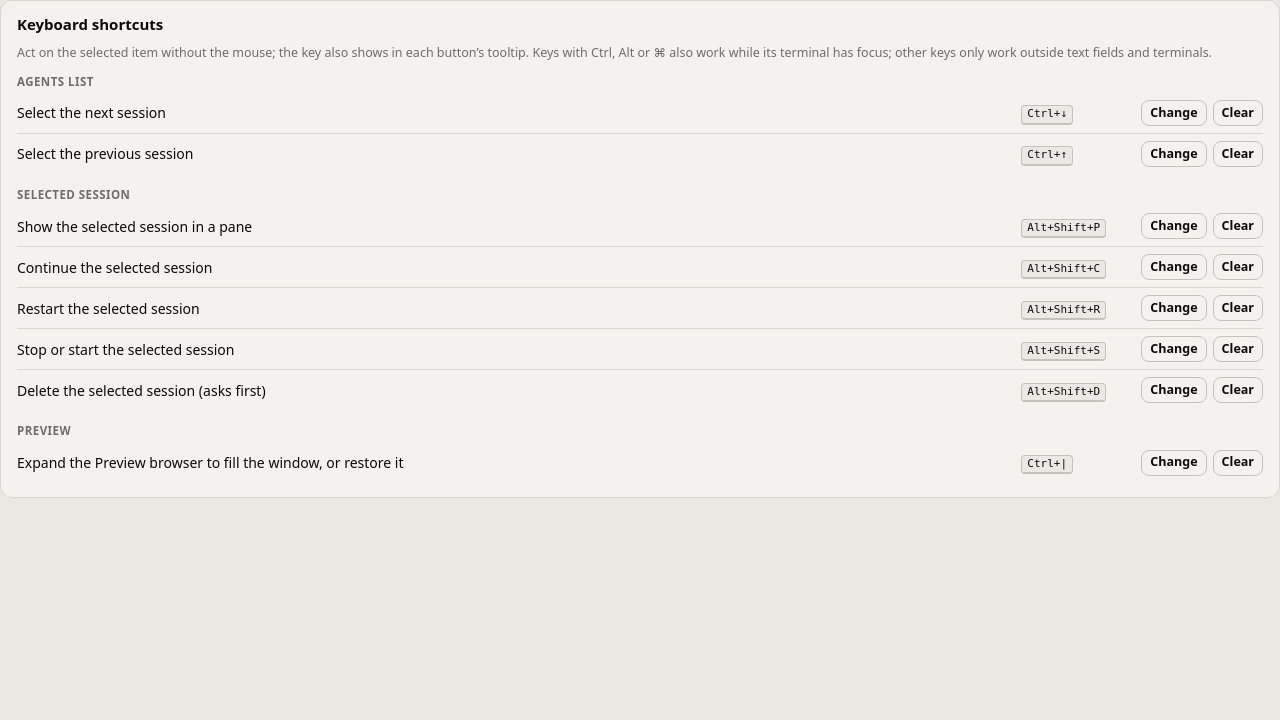
Test case: KeyboardShortcutsPanel › records a new key and saves only the change
Click the button "Change" in the row of "Continue the selected session" at (1174, 267), box top-left (1141, 254), bottom-right (1207, 280)
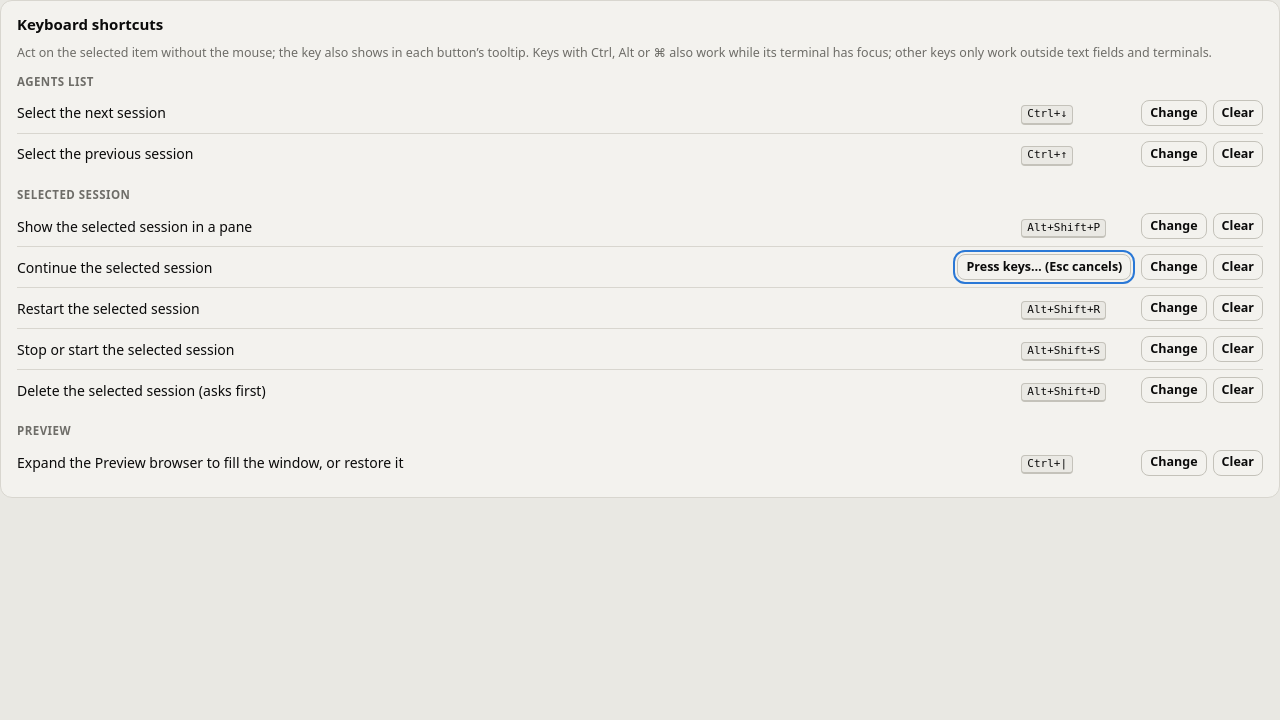
Press Alt in the button with aria-label "Press the new keys", box top-left (958, 254), bottom-right (1131, 280)
Expected: the button with aria-label "Press the new keys" is shown
Press k in the button with aria-label "Press the new keys", box top-left (958, 254), bottom-right (1131, 280)
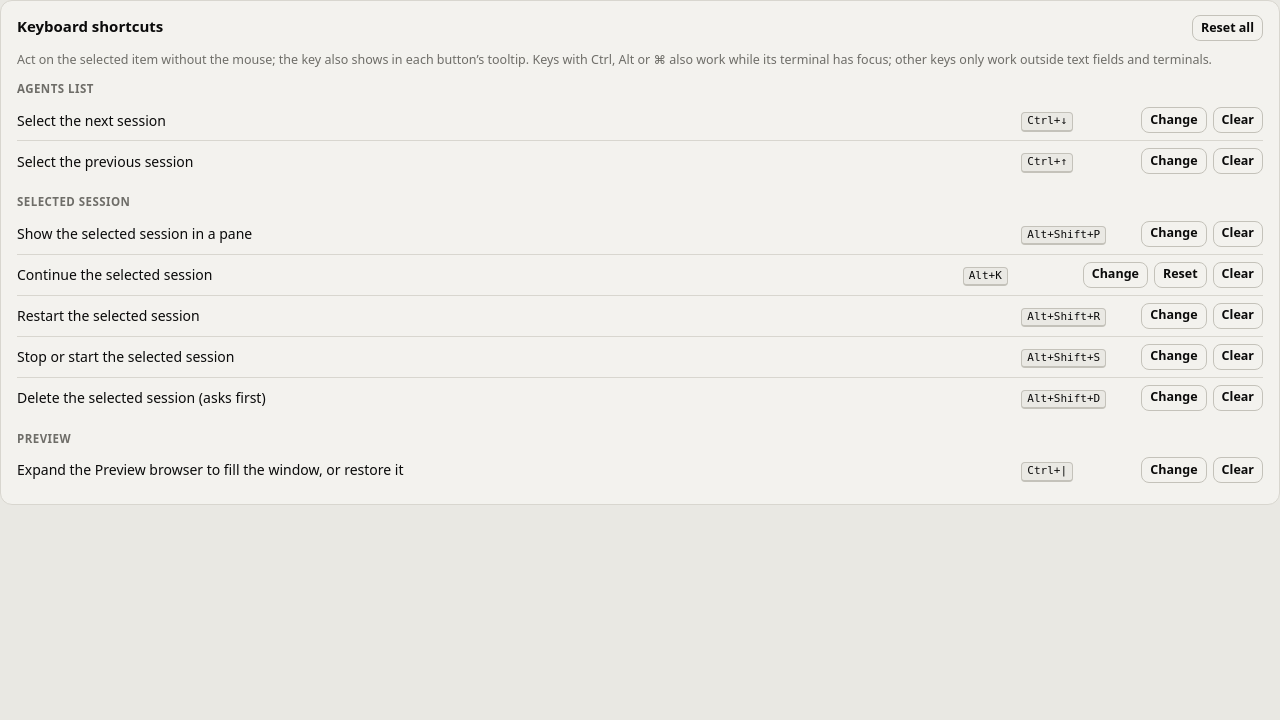
Expected: the text "Alt+K" is shown, top-left (963, 267), bottom-right (1008, 286)
